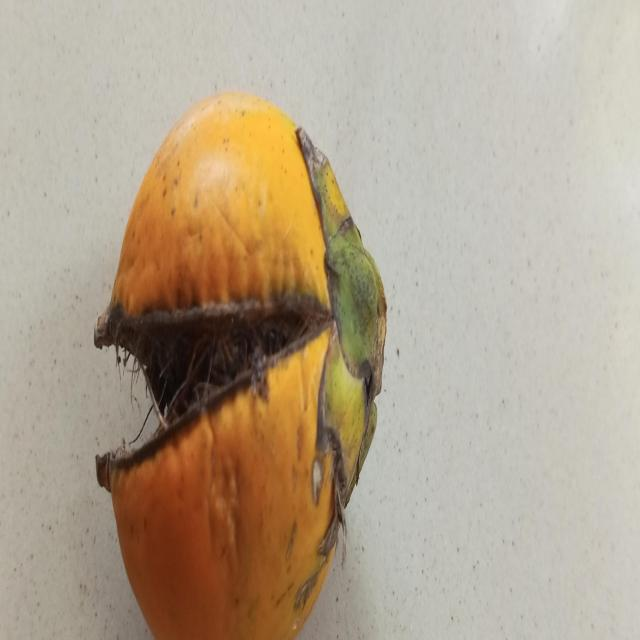damaged: (93, 93, 389, 640)
